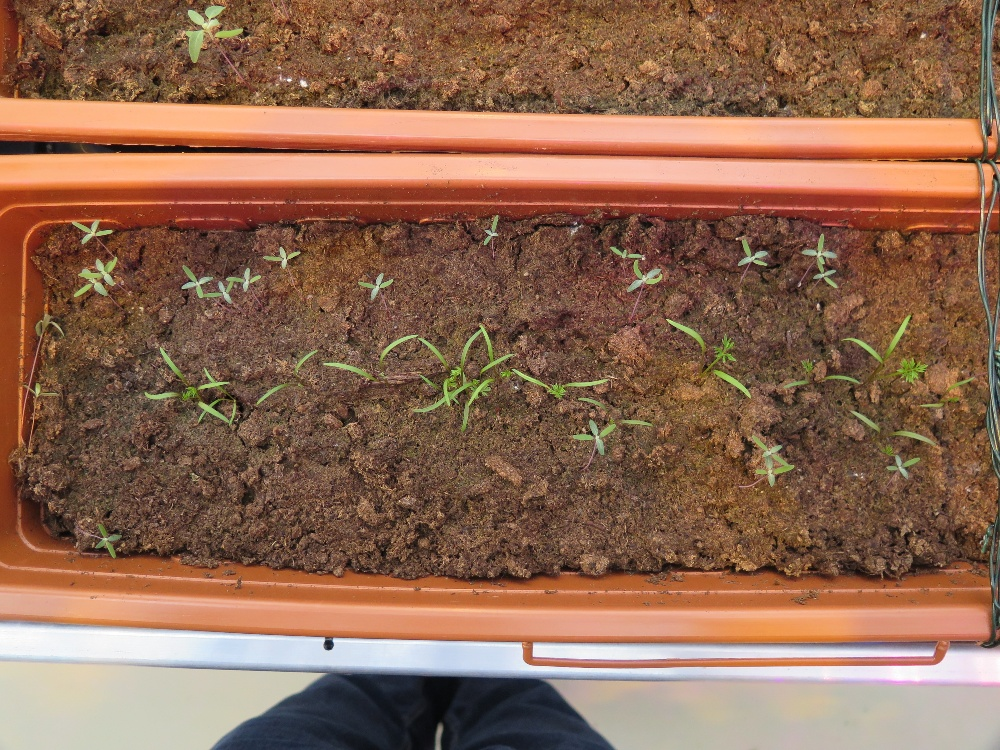crop: (834, 306, 957, 413), (146, 349, 271, 429), (309, 317, 434, 397), (400, 326, 505, 415), (666, 317, 766, 404), (243, 340, 332, 408), (512, 361, 612, 420), (773, 347, 859, 411)
weed: (593, 238, 668, 308), (566, 413, 630, 472), (802, 231, 852, 306), (725, 231, 782, 295), (184, 4, 234, 70), (162, 251, 221, 304), (80, 247, 137, 301), (464, 199, 518, 254), (218, 267, 273, 317), (759, 433, 796, 506), (68, 211, 127, 256), (334, 272, 398, 308), (259, 224, 302, 272), (882, 447, 923, 490)
